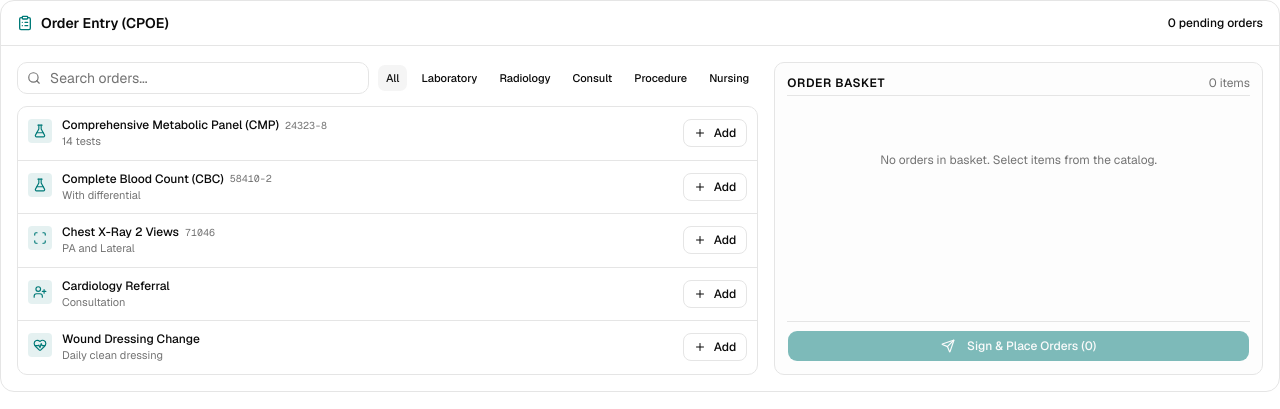
Test: OrderEntry component › filters catalog items based on search query
Type "Chest" into the field with placeholder "Search orders..." at coordinates (193, 78), box [17,62,369,94]
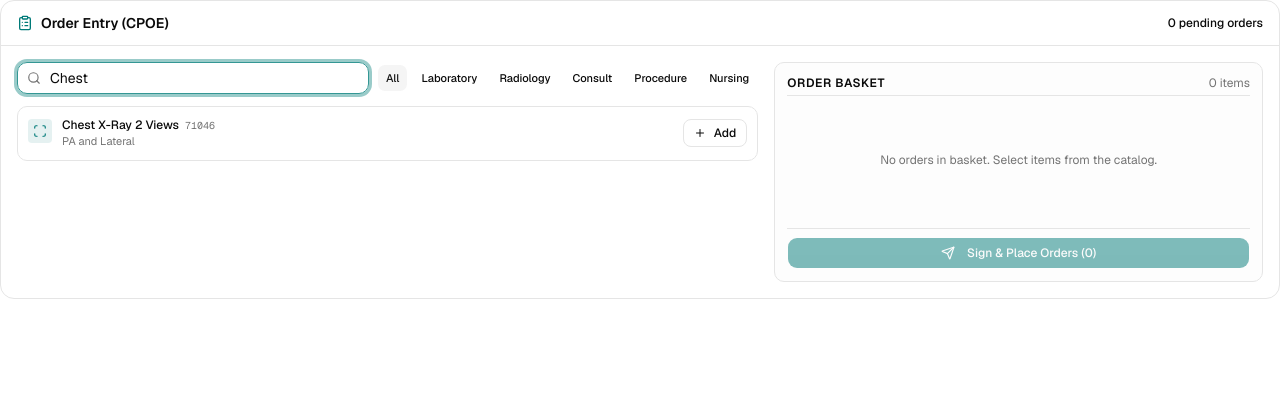
Expected: the text "Chest X-Ray 2 Views" is shown, [62,117,179,133]
Expected: the text "Comprehensive Metabolic Panel (CMP)" is gone
